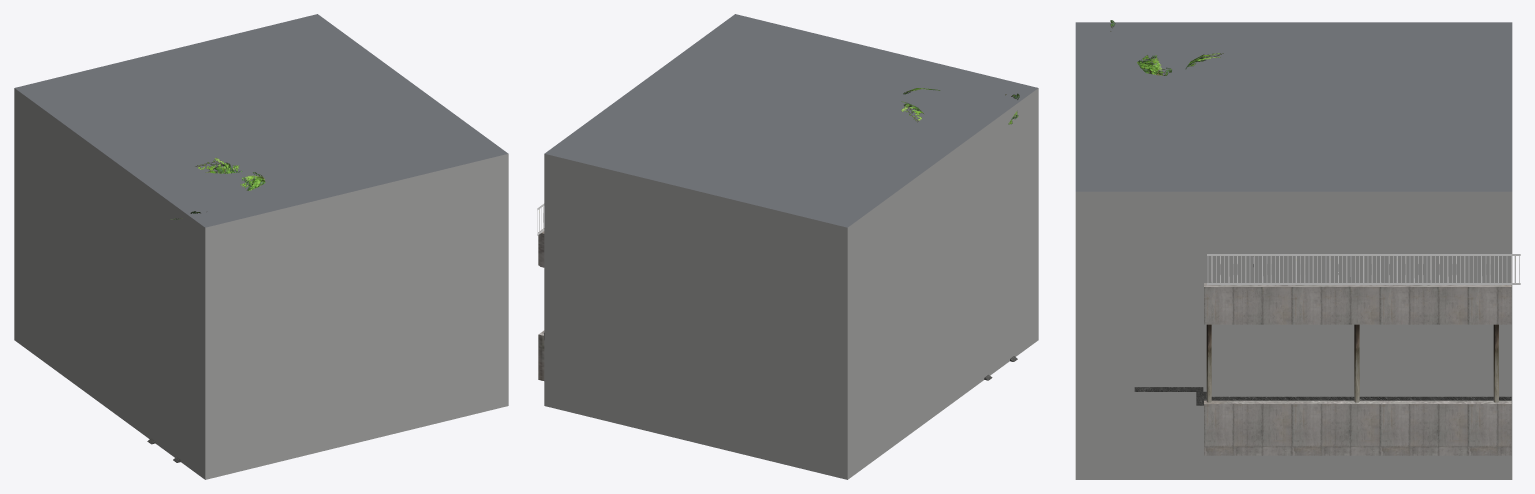
Rendered from bldg_10_modern_roastery.glb.
3 renders of one model, left to right at view 1: azimuth 30°, elevation 25°; view 2: azimuth 150°, elevation 25°; view 3: azimuth 270°, elevation 25°, orthographic. The views are drawn at different scales.
Parts seen in each view (by area): view 1: ModernRoastery; view 2: ModernRoastery; view 3: ModernRoastery.
Boxes of the visible parts, x1=… form: ModernRoastery: x1=14, y1=14, x2=508, y2=479; ModernRoastery: x1=537, y1=14, x2=1038, y2=479; ModernRoastery: x1=1075, y1=20, x2=1520, y2=479.
Bounding box in the file's own units: 11.03 × 8.67 × 11.98.
Materials: 7 (5 with a texture image).
